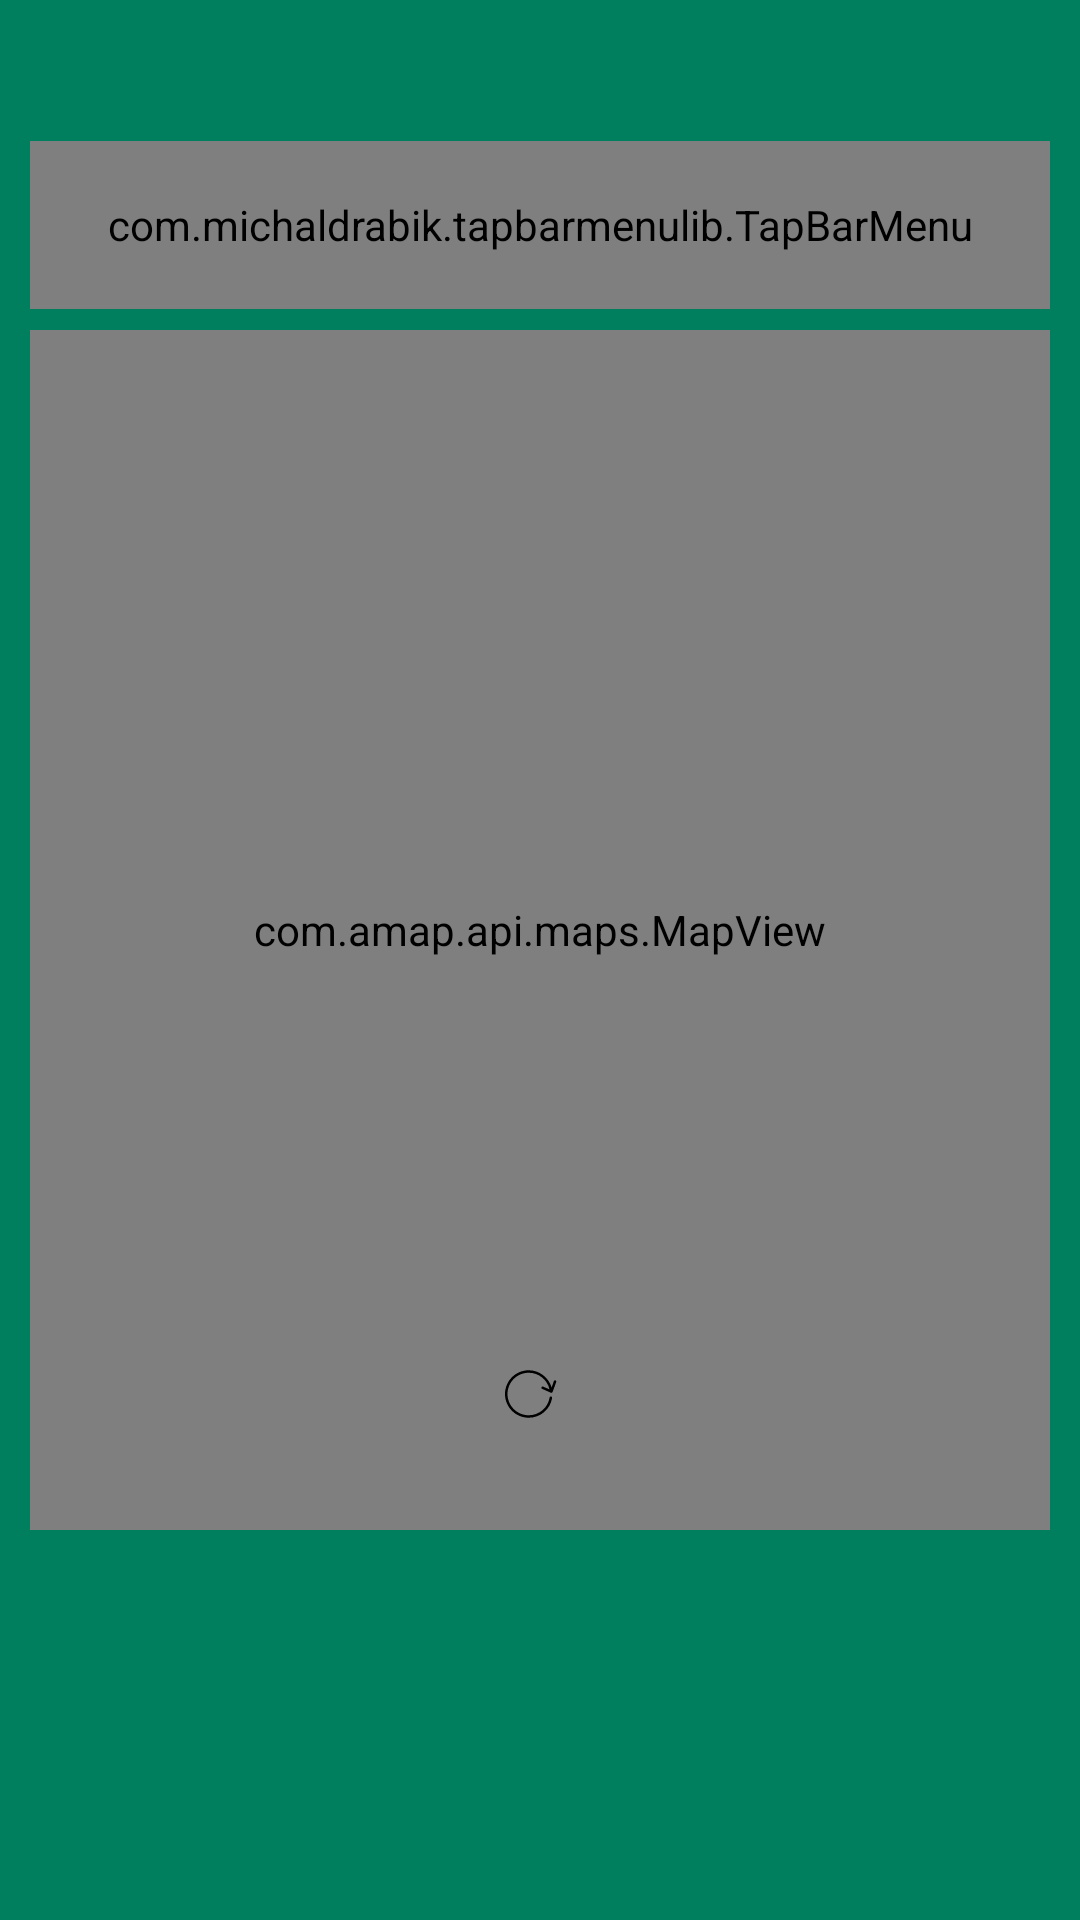

Icon click points for this 1080x1920 phone screenshot, format [x,y]:
refresh: [531,1394]
